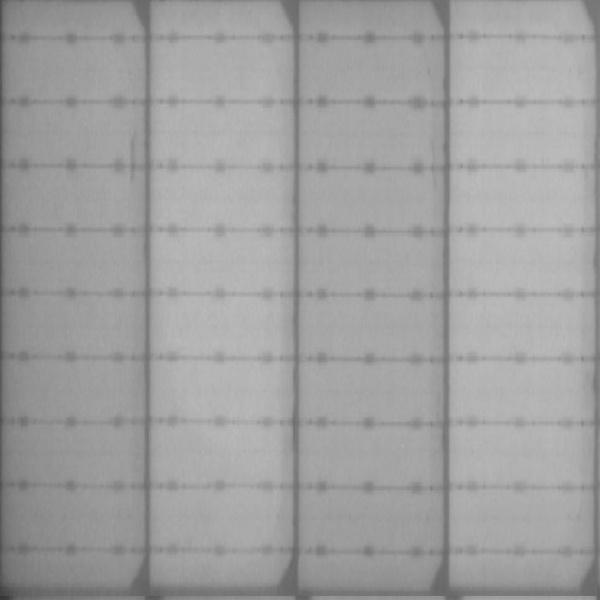scratch: (125, 134, 139, 184)
